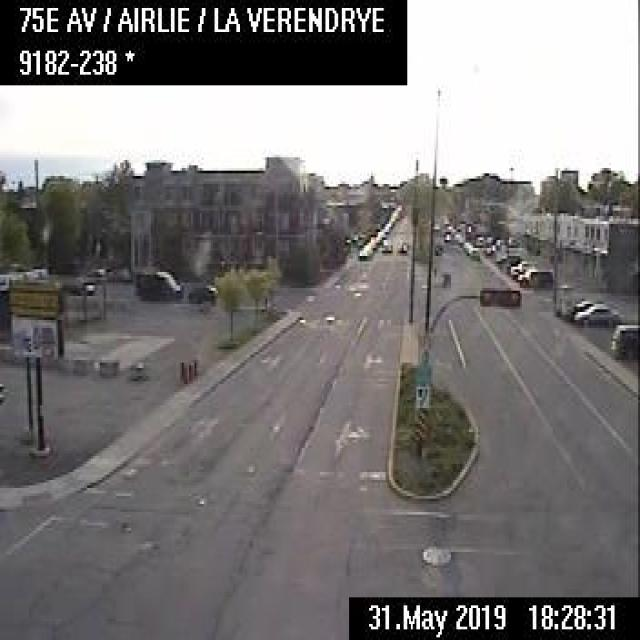construction: (187, 359, 193, 379), (182, 361, 188, 381)
vehicle: (131, 266, 182, 298), (573, 301, 619, 324), (609, 322, 637, 359), (518, 266, 552, 286), (188, 278, 216, 302), (64, 274, 93, 294), (509, 258, 532, 274), (378, 237, 393, 251), (467, 245, 480, 259), (356, 245, 368, 259), (397, 240, 408, 253), (442, 232, 451, 240)
